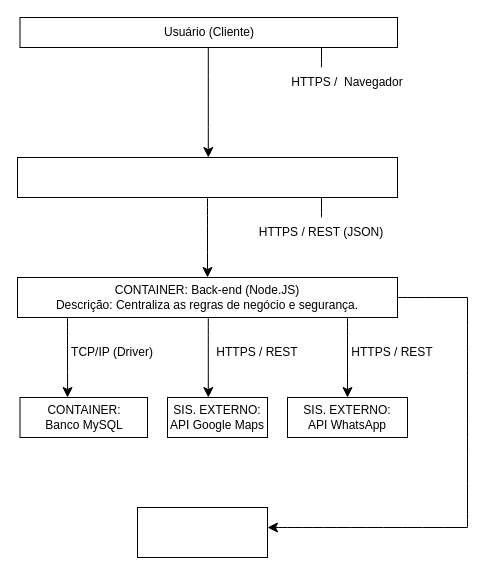
Some shapes in this 486 by 575 pixel diagram are drawn without their labels. The shapes that lost their labels are listed below. From the top down, each one's centre as x and y in pixels, then its label:
At (207,177): "CONTAINER: Front-end (React) Descrição: Renderiza a interface SPA para o usuário".
At (202,532): "Gateway pagamento: Mercado Pago".
